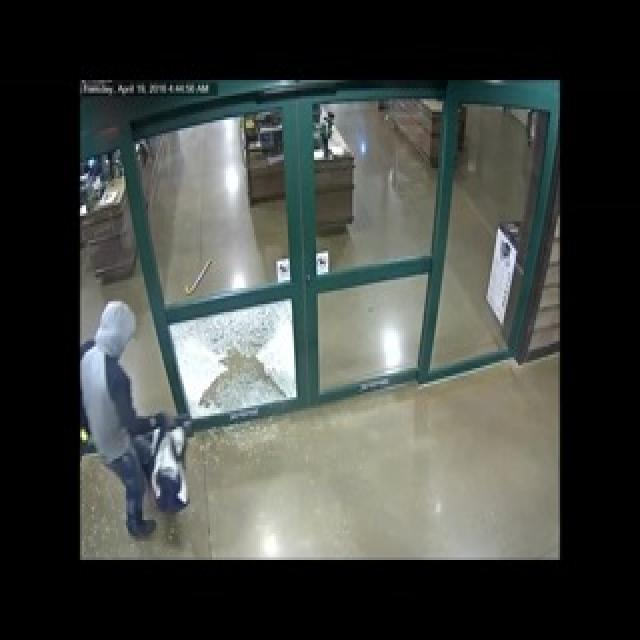burglary: (72, 300, 300, 491)
